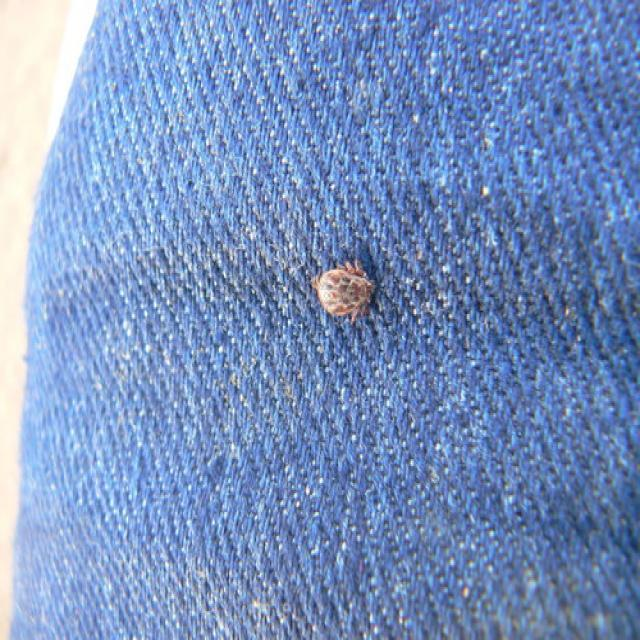Dermacentor Reticulatus-M: (310, 261, 376, 324)
